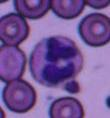N: (30, 35, 83, 87)
